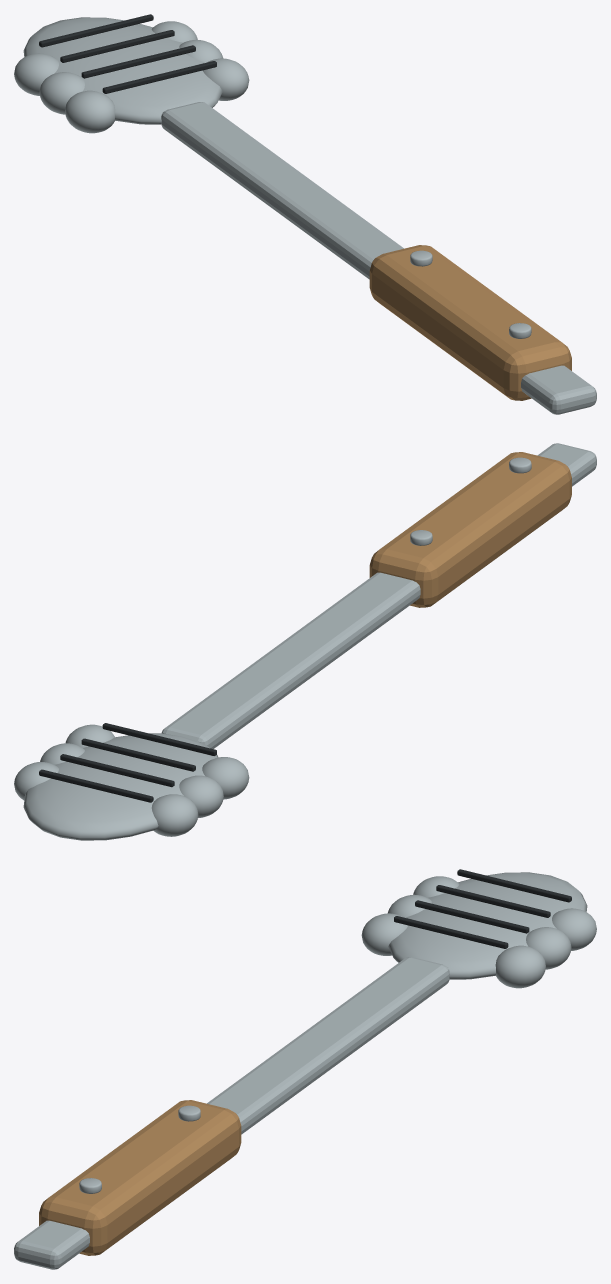
The model's file is tongs_jaw.glb.
3 views of the same model, one above another, from view 1: azimuth 30°, elevation 25°; view 2: azimuth 150°, elevation 25°; view 3: azimuth 330°, elevation 25° (orthographic).
Visible parts, largest first — view 1: Brushed stainless.012, Warm ash wood.007, Cast iron.009; view 2: Brushed stainless.012, Warm ash wood.007, Cast iron.009; view 3: Brushed stainless.012, Warm ash wood.007, Cast iron.009.
Part boxes in pixels (<box>): Brushed stainless.012: <box>14,17,596,414</box>; Warm ash wood.007: <box>369,245,571,400</box>; Cast iron.009: <box>39,14,216,93</box>; Brushed stainless.012: <box>14,443,596,840</box>; Warm ash wood.007: <box>369,452,571,607</box>; Cast iron.009: <box>39,723,216,802</box>; Brushed stainless.012: <box>14,872,596,1269</box>; Warm ash wood.007: <box>39,1100,241,1255</box>; Cast iron.009: <box>394,869,571,948</box>.
Size of the model in its own units: 0.072 by 0.022 by 0.367.
